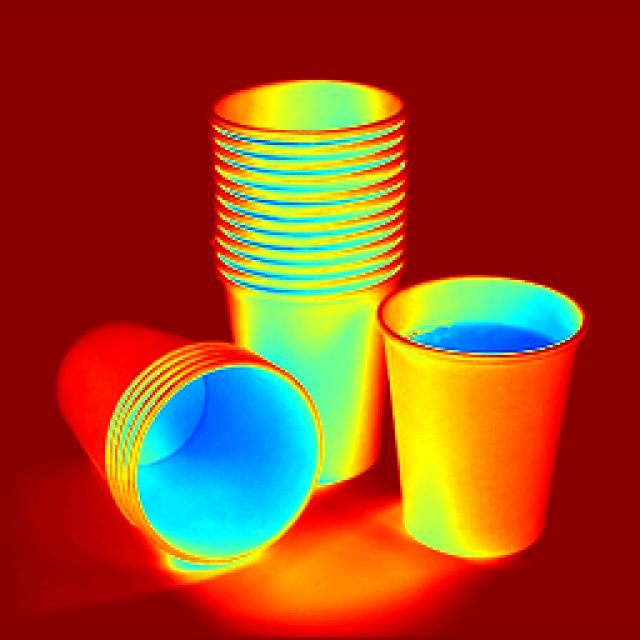Paper Cups: (383, 260, 593, 560), (48, 318, 313, 541), (207, 75, 408, 362)
